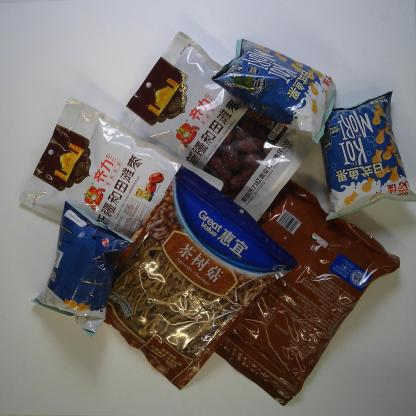Dried Food: (104, 160, 300, 392), (210, 176, 402, 406), (119, 31, 316, 226), (15, 96, 224, 245)
Puffed Food: (28, 198, 133, 338), (210, 37, 337, 145), (318, 90, 416, 221)
